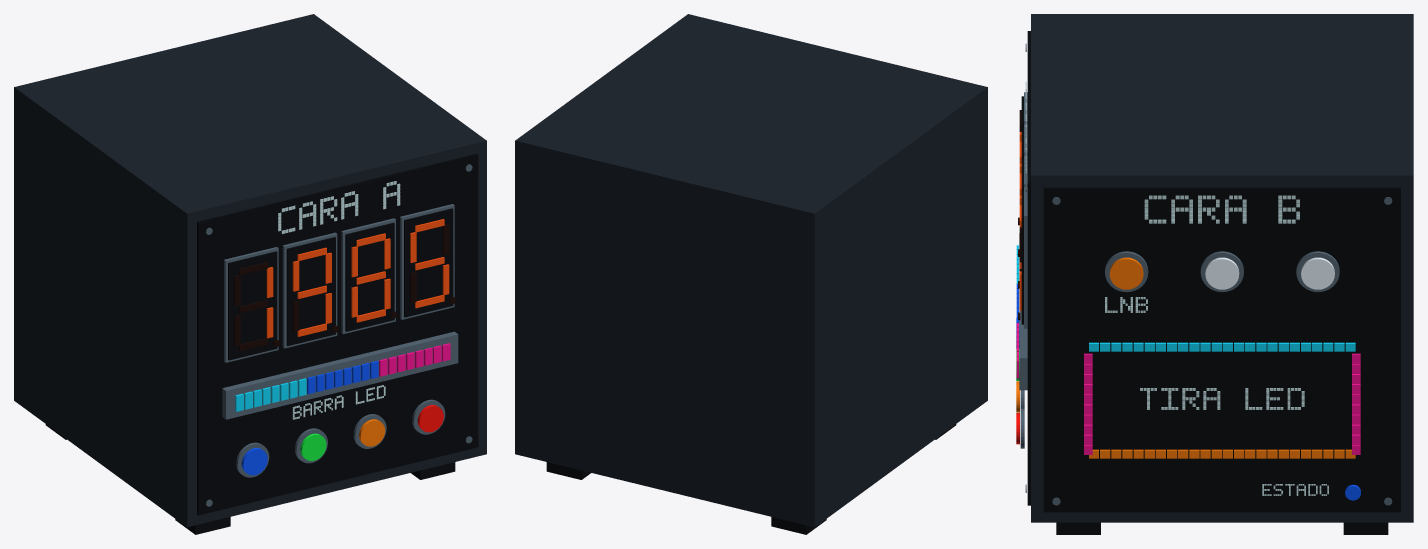
File: ST-01-cubo.obj
3 views of the same model, side by side, from view 1: azimuth 30°, elevation 25°; view 2: azimuth 150°, elevation 25°; view 3: azimuth 270°, elevation 25° (orthographic). The views are drawn at different scales.
Visible parts, largest first — view 1: envolvente_1200mm_0, panel_cara_A_1, perfil_barra_223, fondo_digito_2_204, fondo_digito_1_194, fondo_digito_3_214, fondo_digito_0_184, marco_digito_1_193, marco_digito_2_203, marco_digito_0_183, marco_digito_3_213, piloto_A_1_390 (+3 smaller); view 2: envolvente_1200mm_0; view 3: panel_cara_B_91, envolvente_1200mm_0, panel_cara_A_1, piloto_B_1_398, piloto_B_2_400, piloto_B_0_396, perfil_barra_223, aro_piloto_B_2_399, aro_piloto_B_0_395, aro_piloto_B_1_397, pata_727, pata_728 (+1 smaller).
Part boxes in pixels (<box>): envolvente_1200mm_0: <box>14,14,486,527</box>; panel_cara_A_1: <box>197,153,478,515</box>; perfil_barra_223: <box>222,331,458,419</box>; fondo_digito_2_204: <box>345,222,394,331</box>; fondo_digito_1_194: <box>286,237,335,345</box>; fondo_digito_3_214: <box>404,208,453,317</box>; fondo_digito_0_184: <box>228,251,277,360</box>; marco_digito_1_193: <box>282,232,337,348</box>; marco_digito_2_203: <box>341,218,395,334</box>; marco_digito_0_183: <box>224,247,278,362</box>; marco_digito_3_213: <box>400,204,454,319</box>; piloto_A_1_390: <box>300,433,326,460</box>; envolvente_1200mm_0: <box>515,14,987,527</box>; panel_cara_B_91: <box>1043,187,1400,512</box>; envolvente_1200mm_0: <box>1031,14,1413,522</box>; panel_cara_A_1: <box>1027,31,1030,505</box>; piloto_B_1_398: <box>1205,257,1239,289</box>; piloto_B_2_400: <box>1301,257,1334,289</box>; piloto_B_0_396: <box>1109,257,1143,289</box>; perfil_barra_223: <box>1019,233,1027,390</box>; aro_piloto_B_2_399: <box>1296,251,1339,292</box>; aro_piloto_B_0_395: <box>1105,251,1148,292</box>; aro_piloto_B_1_397: <box>1200,251,1243,292</box>; pata_727: <box>1343,522,1388,534</box>; pata_728: <box>1056,522,1100,534</box>.
Bounding box in the file's own units: 1.25 × 1.28 × 1.25.
